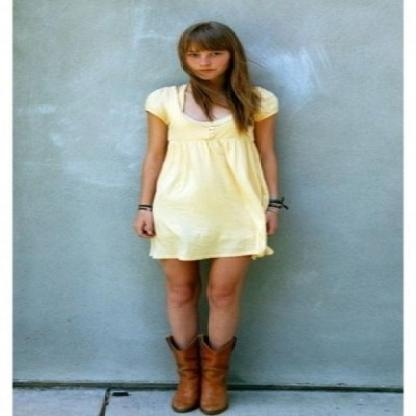dress: (146, 85, 276, 260)
shoe: (166, 334, 230, 415)
